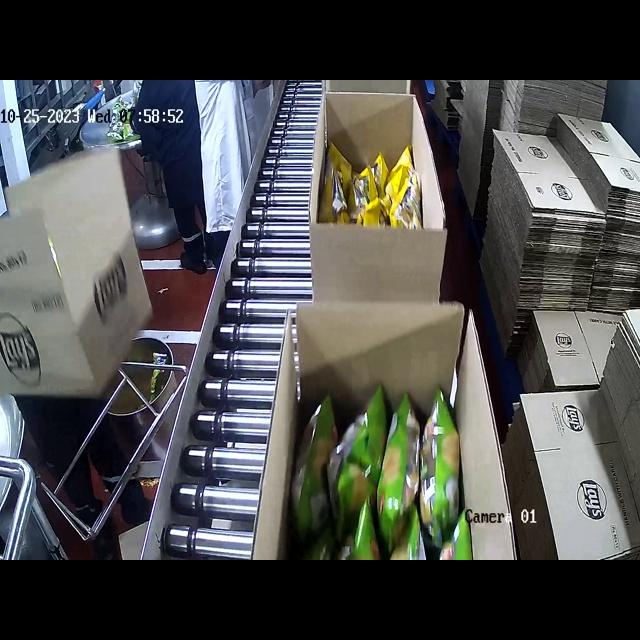salted: (317, 125, 416, 229)
yogurt: (289, 359, 462, 560)
